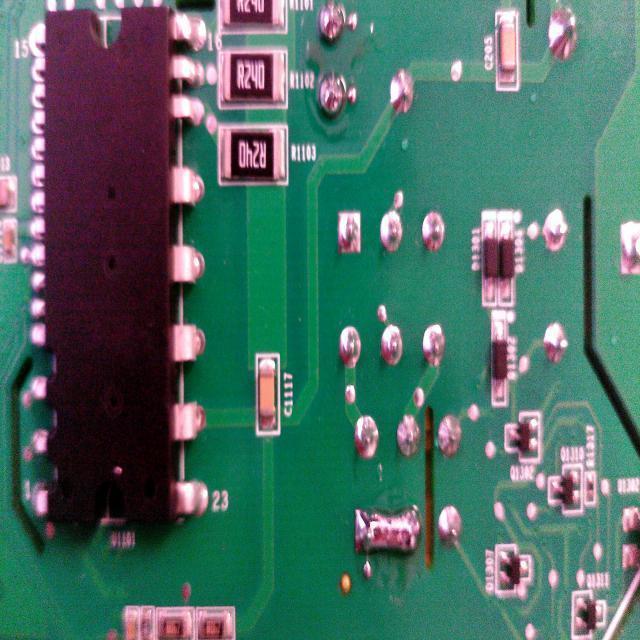Soldering shorted: (350, 501, 423, 565)
